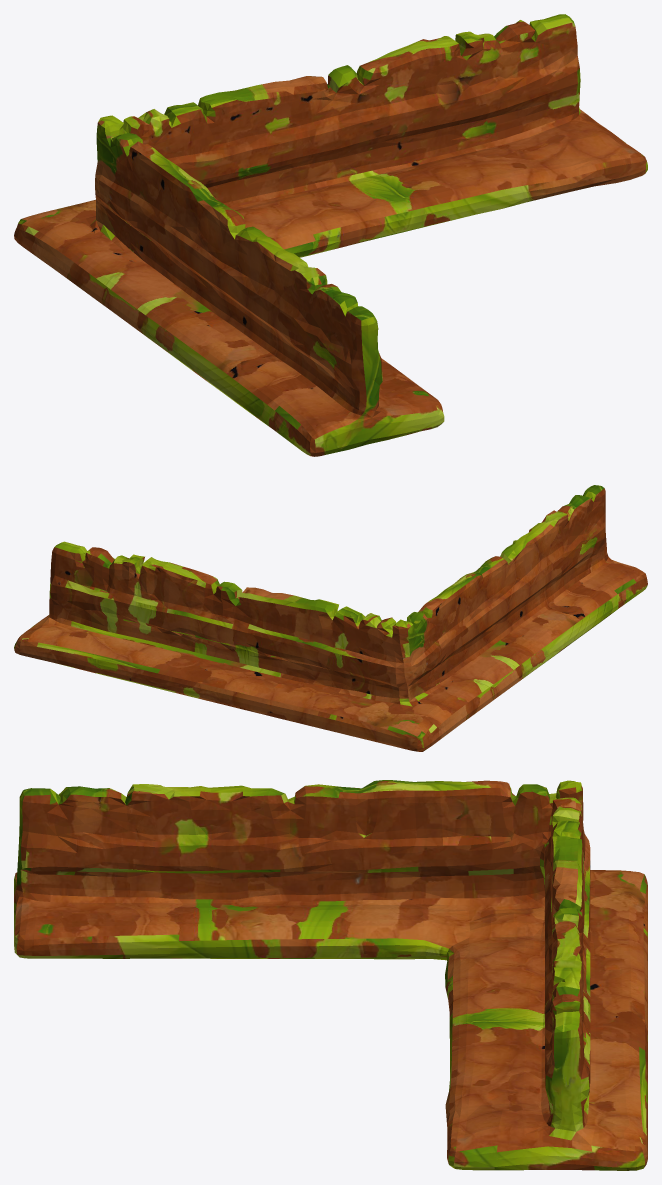
The model's file is fence cornner 2.obj.
The picture shows the model from 3 angles, top to bottom: view 1: azimuth 30°, elevation 25°; view 2: azimuth 150°, elevation 25°; view 3: azimuth 270°, elevation 25°; orthographic projection. The views are drawn at different scales.
Visible parts, largest first — view 1: tripo_node_43e45dc5-c7fb-40fe-982a-7e96c5b2d236; view 2: tripo_node_43e45dc5-c7fb-40fe-982a-7e96c5b2d236; view 3: tripo_node_43e45dc5-c7fb-40fe-982a-7e96c5b2d236.
Part boxes in pixels (x1,y1,x2,y2): tripo_node_43e45dc5-c7fb-40fe-982a-7e96c5b2d236: [14, 14, 647, 456]; tripo_node_43e45dc5-c7fb-40fe-982a-7e96c5b2d236: [14, 485, 647, 751]; tripo_node_43e45dc5-c7fb-40fe-982a-7e96c5b2d236: [14, 780, 647, 1170].
Bounding box in the file's own units: 0.9993 × 0.2333 × 0.9496.
